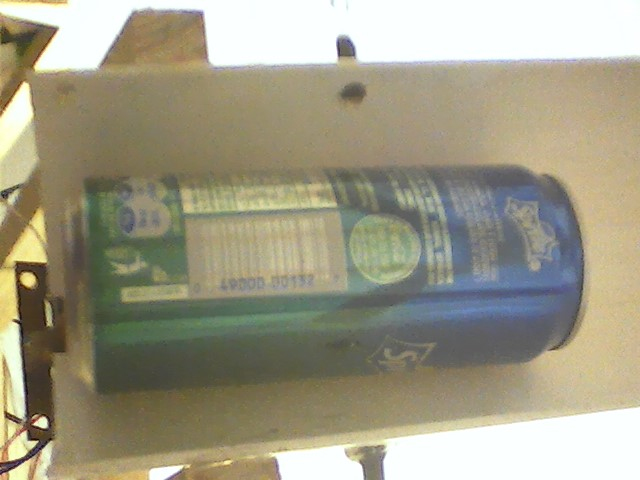lata: (59, 161, 595, 397)
